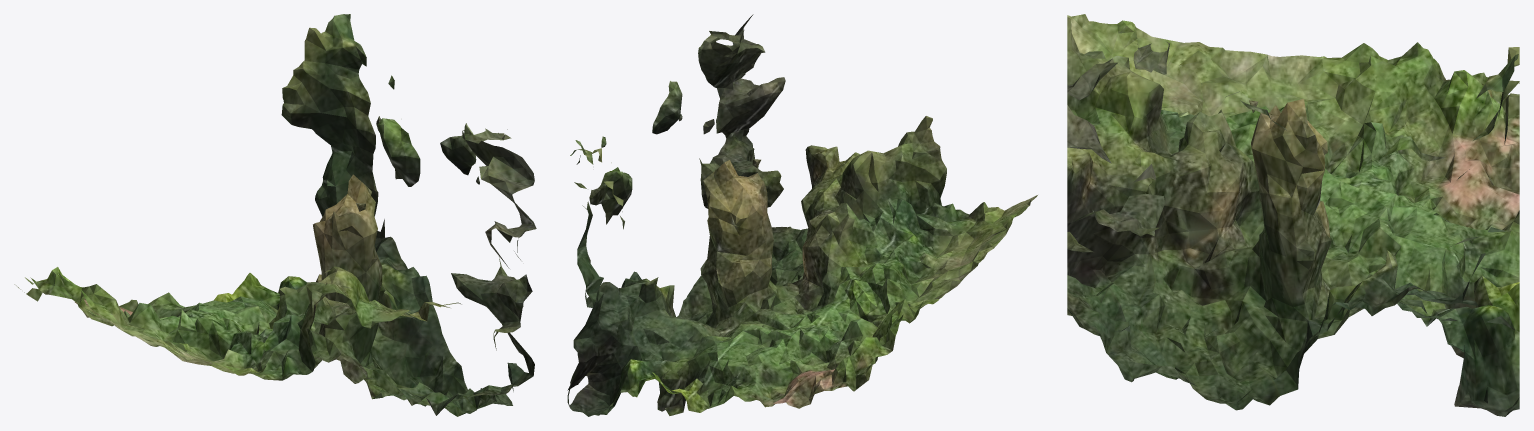
3 renders of one model, left to right at view 1: azimuth 30°, elevation 25°; view 2: azimuth 150°, elevation 25°; view 3: azimuth 270°, elevation 25°, orthographic. The views are drawn at different scales.
Bounding box in the file's own units: 11.8 × 10.36 × 11.8.
5 materials, 5 textured.
